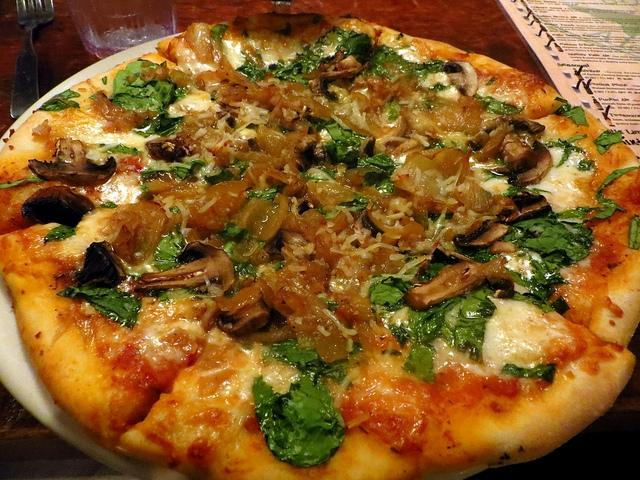mushroom: (403, 256, 514, 311), (134, 241, 236, 292), (28, 137, 116, 187), (500, 132, 553, 188), (240, 192, 288, 243), (216, 303, 270, 337), (498, 191, 550, 222), (454, 223, 510, 248), (284, 130, 318, 171), (146, 136, 188, 163), (324, 55, 362, 72), (348, 74, 368, 91)
